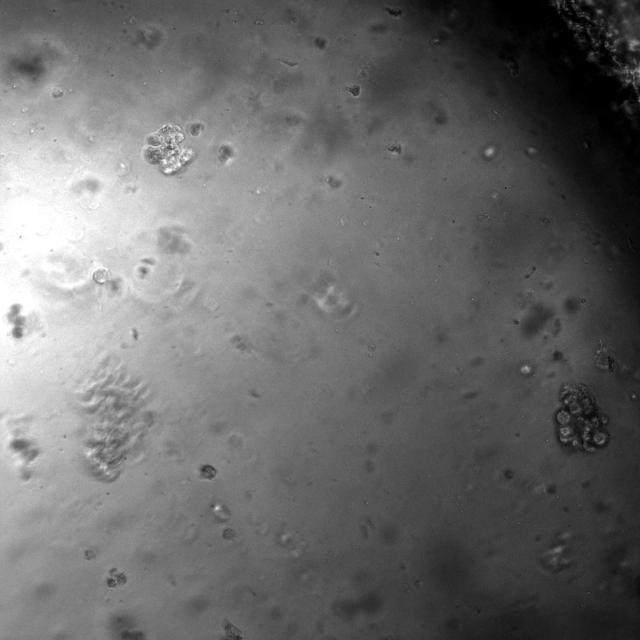organoid: (76, 356, 154, 482), (555, 384, 609, 452), (0, 416, 41, 480), (144, 124, 193, 174), (593, 339, 618, 372), (6, 303, 26, 338), (106, 568, 126, 588), (199, 463, 217, 480), (225, 622, 243, 639), (92, 267, 109, 284), (189, 121, 204, 137), (219, 145, 232, 163), (385, 6, 404, 18), (345, 85, 361, 97), (314, 36, 326, 49), (431, 35, 443, 45)
